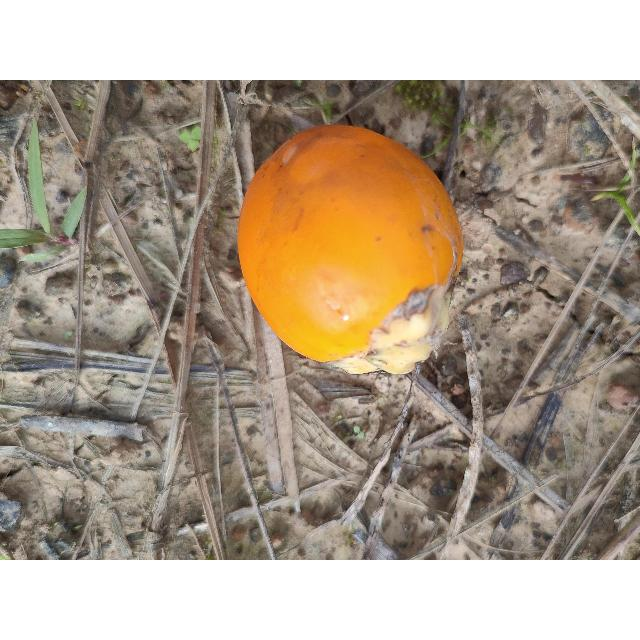good: (237, 125, 466, 375)
